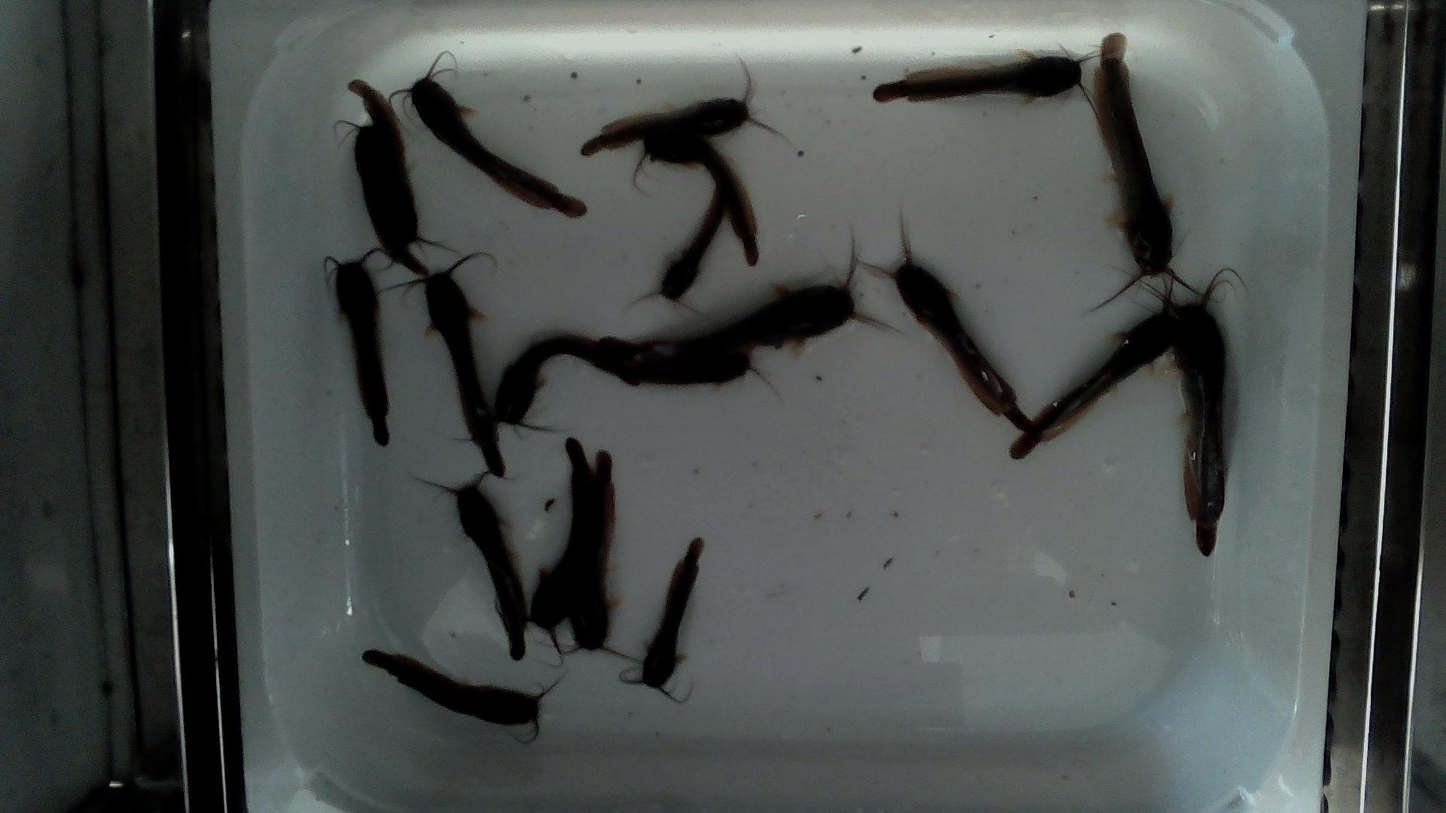lele: (602, 228, 903, 372), (865, 224, 1032, 430), (395, 52, 587, 217), (1009, 275, 1177, 462), (1094, 33, 1205, 300), (384, 253, 503, 475), (1151, 266, 1229, 557), (581, 52, 795, 157), (362, 650, 563, 752), (426, 473, 529, 659), (632, 125, 760, 267), (347, 78, 444, 254), (526, 439, 595, 657), (617, 537, 703, 705), (492, 332, 640, 428), (342, 121, 430, 276), (563, 450, 627, 660), (321, 247, 389, 444), (628, 181, 724, 309), (873, 55, 1093, 102), (635, 353, 778, 395)
